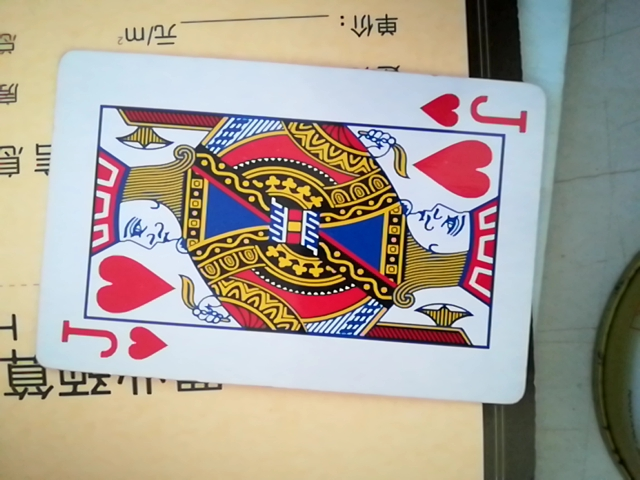hx j: (30, 55, 569, 407)
